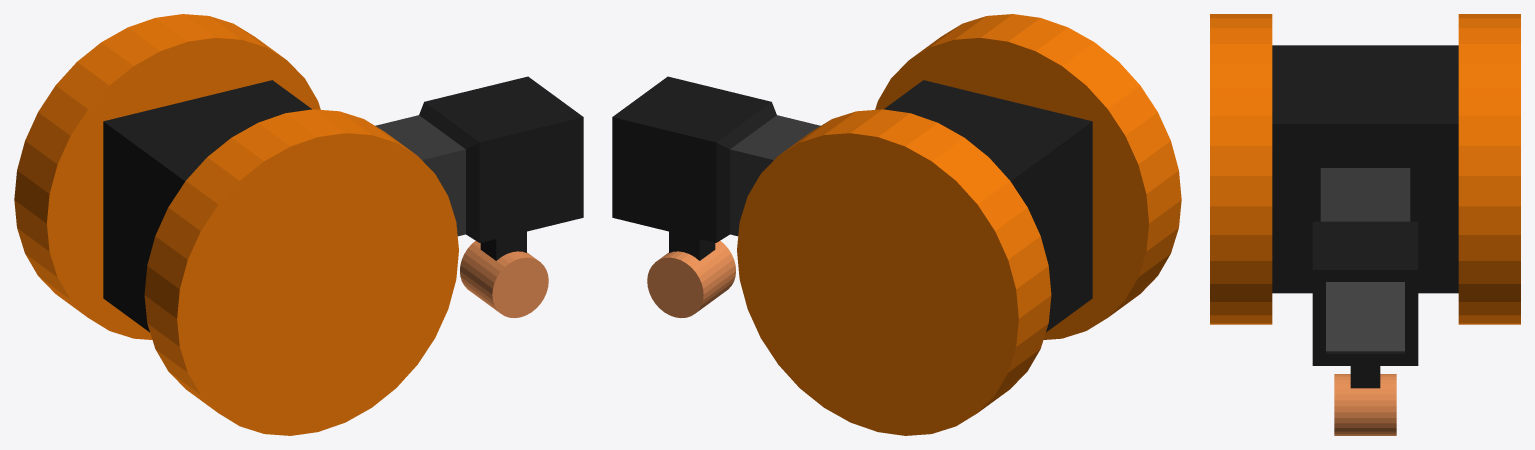
Rendered from player.glb.
The picture shows the model from 3 angles, left to right: view 1: azimuth 30°, elevation 25°; view 2: azimuth 150°, elevation 25°; view 3: azimuth 270°, elevation 25°; orthographic projection. The views are drawn at different scales.
Parts seen in each view (by area): view 1: player; view 2: player; view 3: player.
Boxes of the visible parts, left/top/right/bottom form: player: left=14, top=14, right=583, bottom=435; player: left=612, top=14, right=1181, bottom=435; player: left=1210, top=14, right=1520, bottom=435.
Bounding box in the file's own units: 3.26 × 2 × 2.
1 material, 1 textured.
